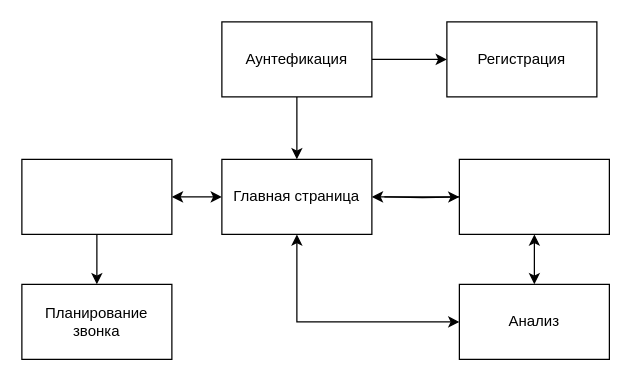
The diagram is 631 pixels wide and 381 high, and some of its shapes have lost their labels. Here are the shapes that lost their labels. From the top down, the centre of each, then its label:
At point 96,196: "Дешборд".
At point 533,196: "Отчеты".
